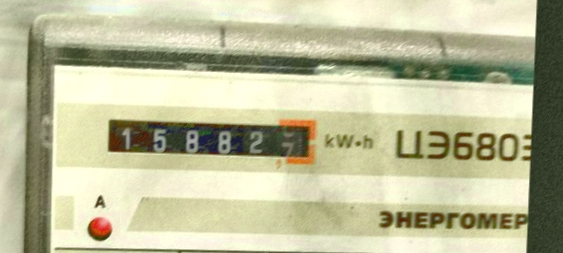1: (120, 123, 134, 153)
2: (247, 130, 265, 156)
5: (151, 127, 169, 157)
7: (280, 140, 293, 158)
8: (183, 128, 200, 157), (216, 128, 233, 157)
screen: (95, 103, 324, 174)
